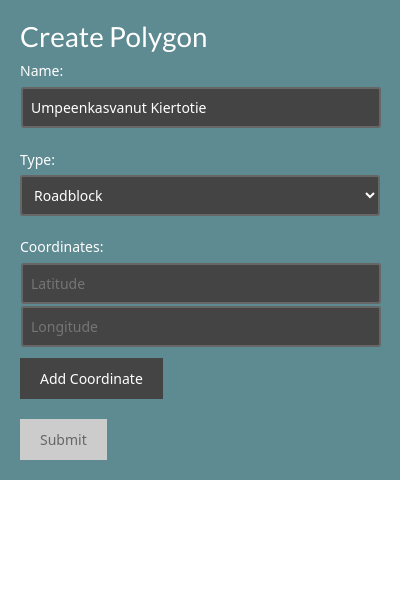
Test case: submit can be pressed with valid values2
Click the button "Add Coordinate": point(91, 379) [20,358,163,399]
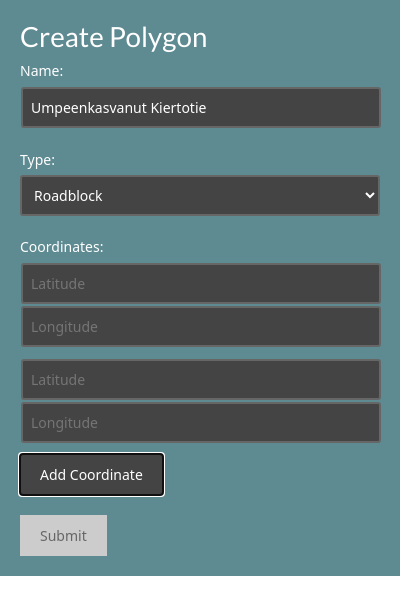
Replace the text in the field labelled "Name:" with "name": point(201, 108) [21,87,381,128]
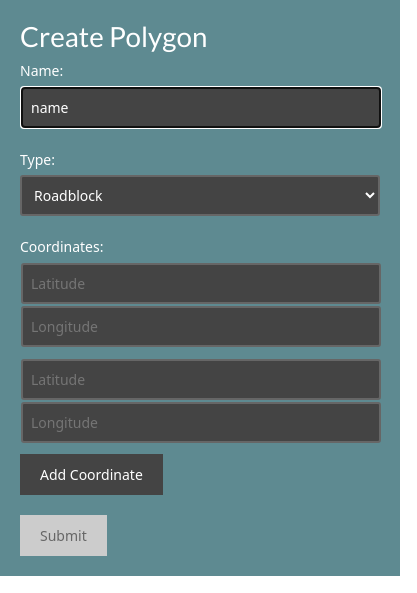
In the 1st field with placeholder "Latitude": point(201, 284) [21,263,381,304], type "45"
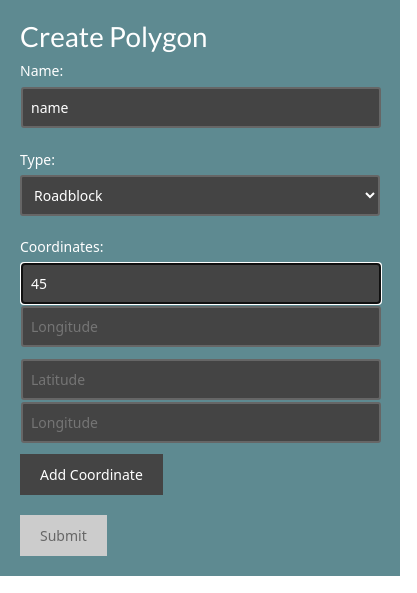
In the 1st field with placeholder "Longitude": point(201, 327) [21,306,381,347], type "55"
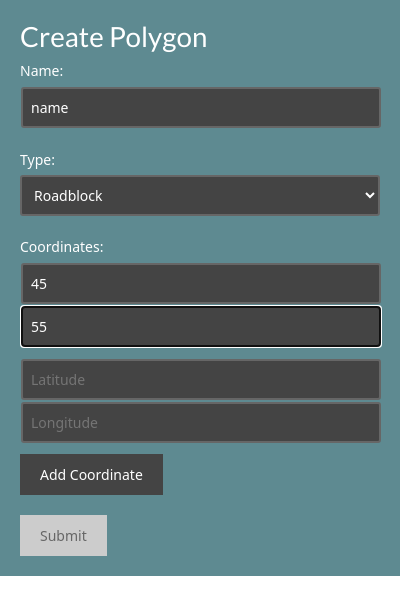
In the field with placeholder "Latitude": point(201, 380) [21,359,381,400], type "66"
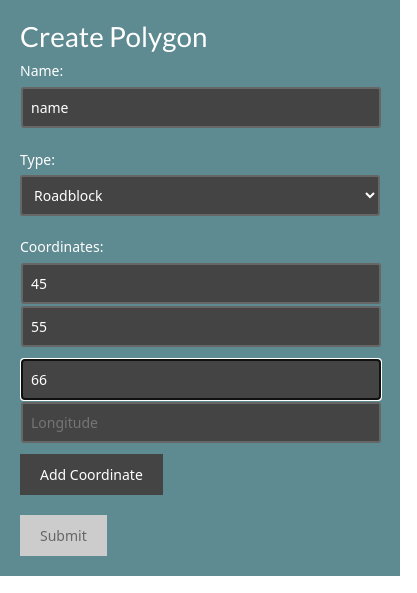
In the field with placeholder "Longitude": point(201, 423) [21,402,381,443], type "77"
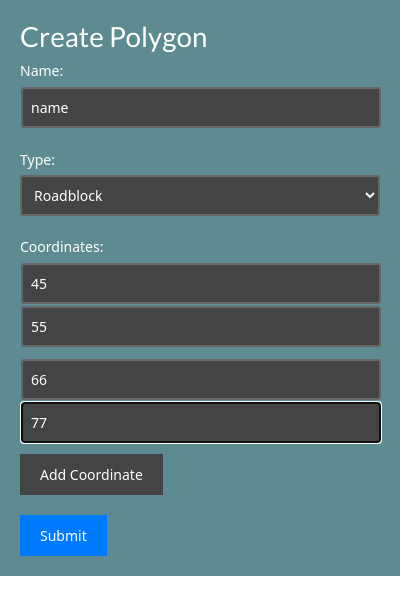
Now the button "Submit" is enabled, box [20,515,107,556]
